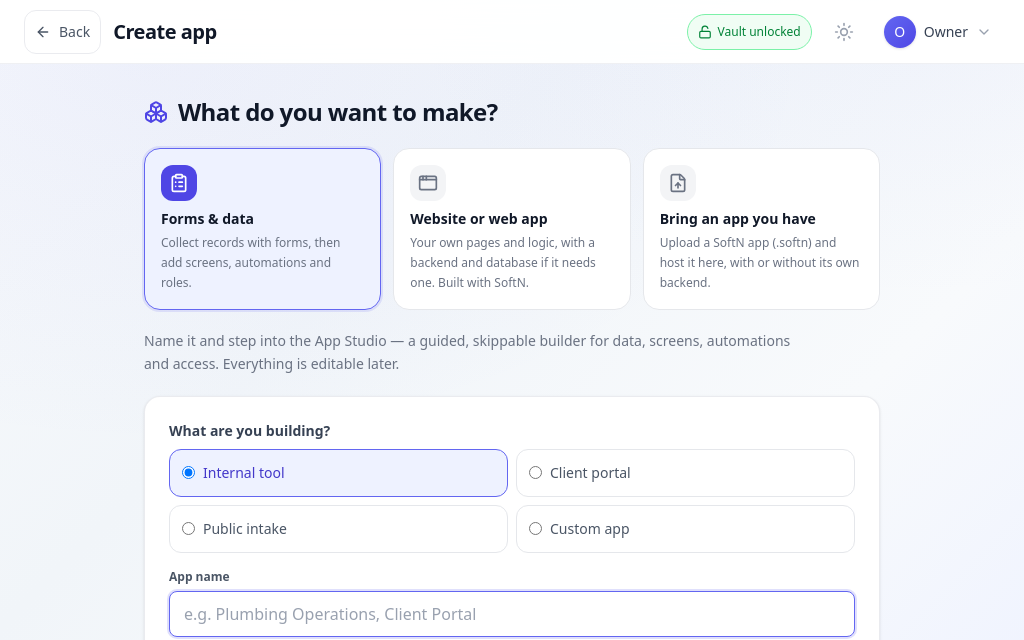
it: AppCreateStart: what to make › offers three starts and opens on forms & data
The width and height of the screenshot is (1024, 640).
Expected: the radio button named "app-build" holds "forms", 144,148 -> 381,310
Expected: the field with id "new-app-name" is shown, 169,590 -> 855,636
Click the radio button named "app-build" at [512, 229], box 393,148 -> 631,310
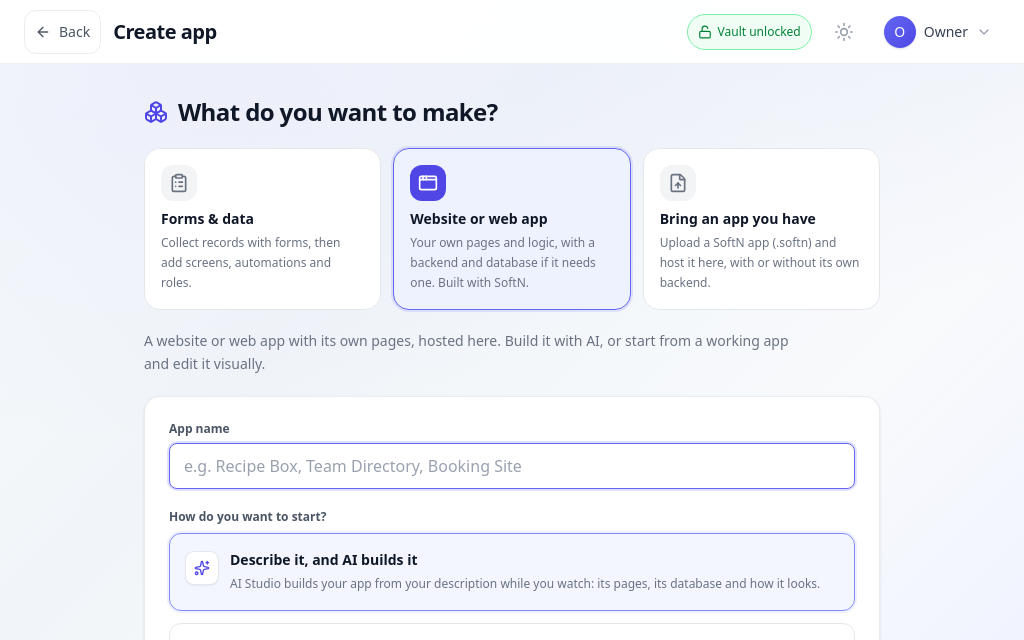
Expected: the label with id "new-app-name" is gone
Expected: the field with id "softn-app-name" is shown, 169,442 -> 855,488
Expected: the text "How do you want to start?" is shown, 169,508 -> 326,524
